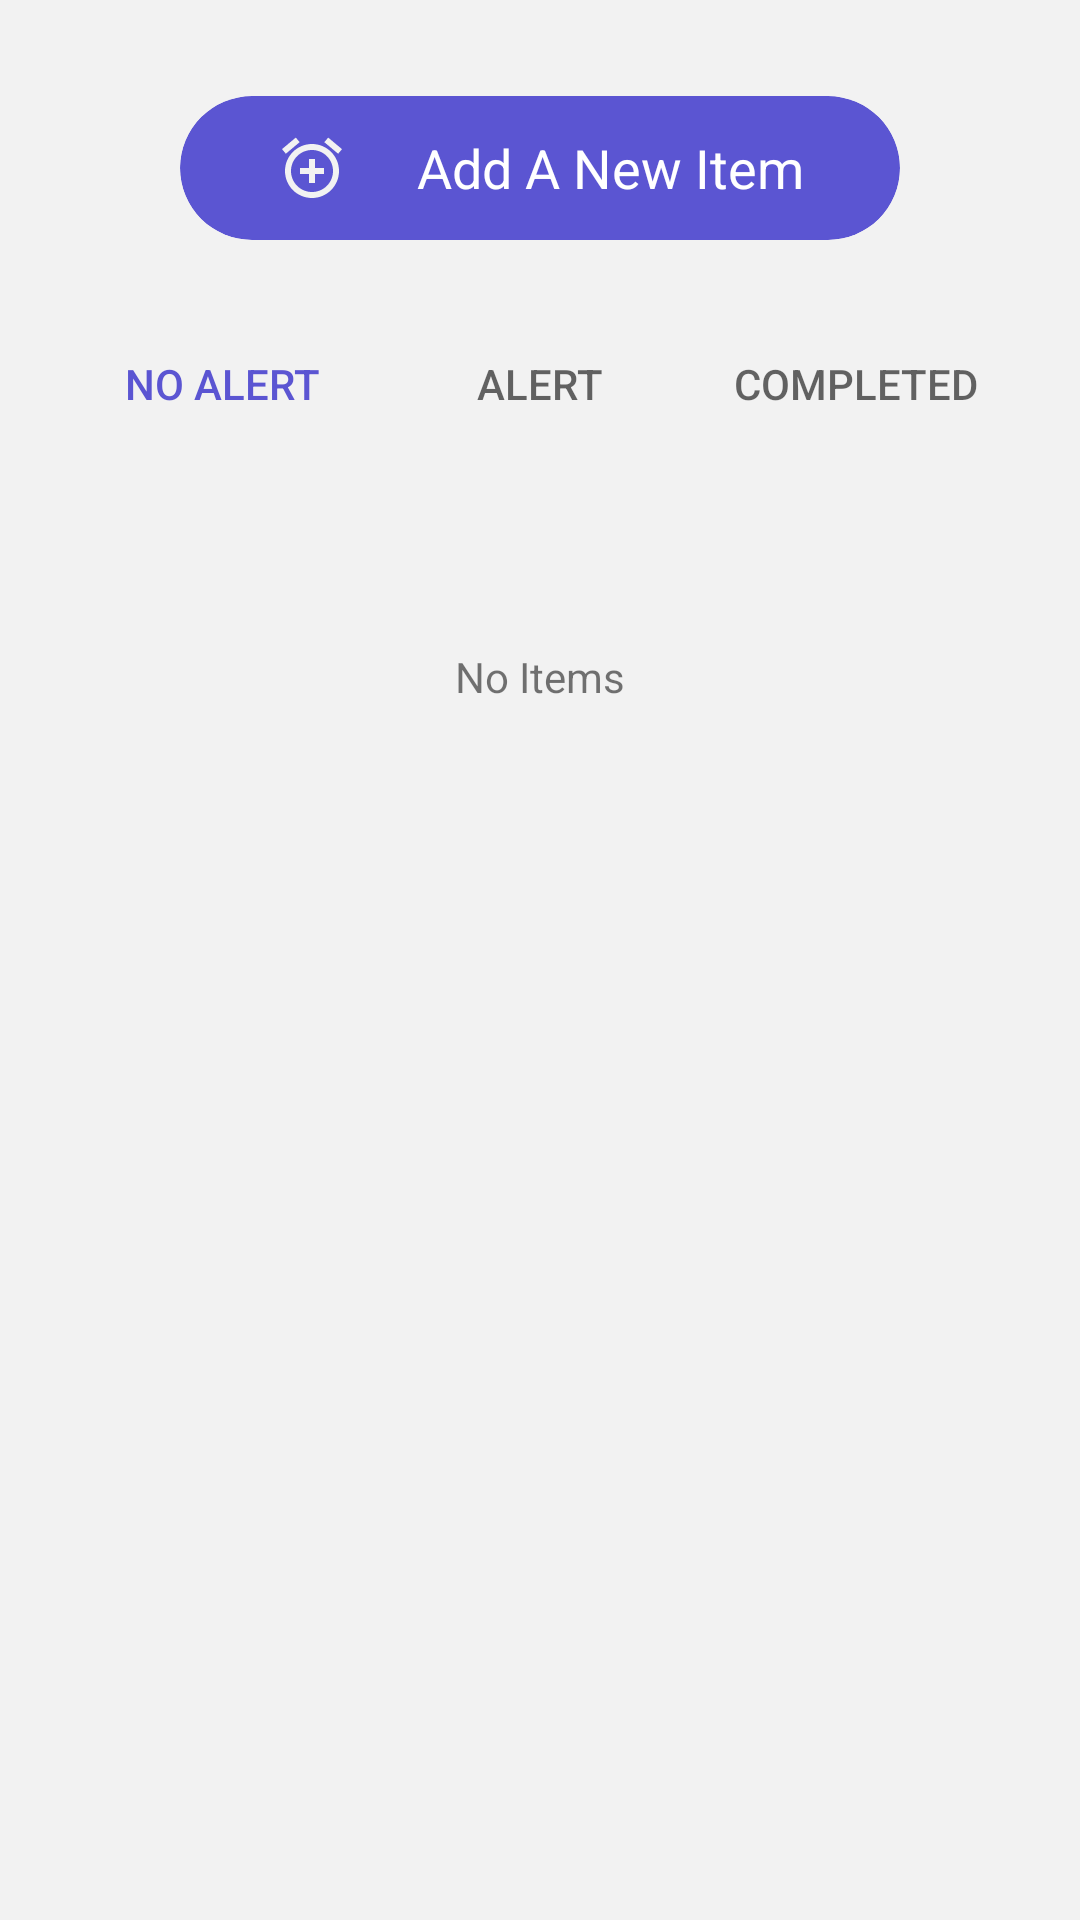

Screen size 1080*1920. Icon name, then its box in pixels as (x1, y1, x2, y2):
add alarm: (282, 138, 342, 198)
